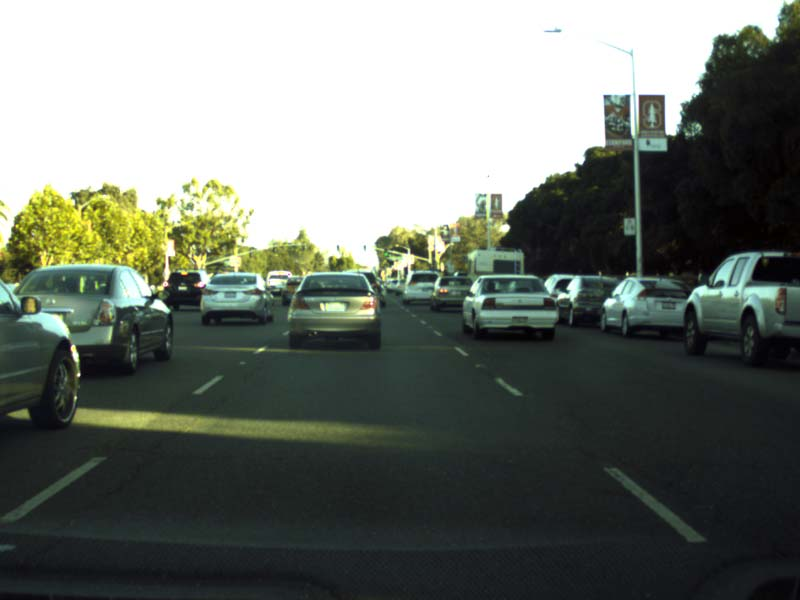Green: (384, 249, 386, 256), (363, 245, 365, 250)
